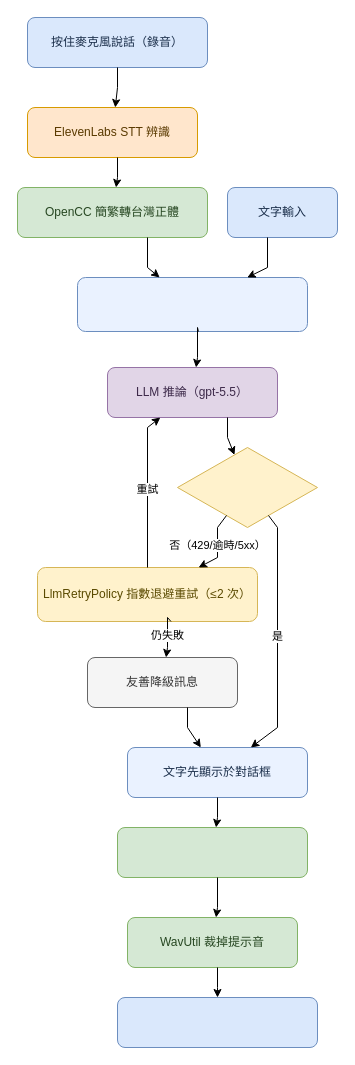
Some shapes in this 355 by 1065 pixel diagram are drawn without their labels. The shapes that lost their labels are listed below. From the top down, each one's box as (x1, y1, x2, y2) in pixels, then its label:
(76, 276, 308, 332): 組該 POI 專屬 prompt（LlmPromptBuilder）
(176, 446, 318, 528): 回傳成功?
(116, 826, 308, 878): GLM TTS 合成語音（小陳）
(116, 996, 318, 1048): 播放語音 + NPC 說話動畫
